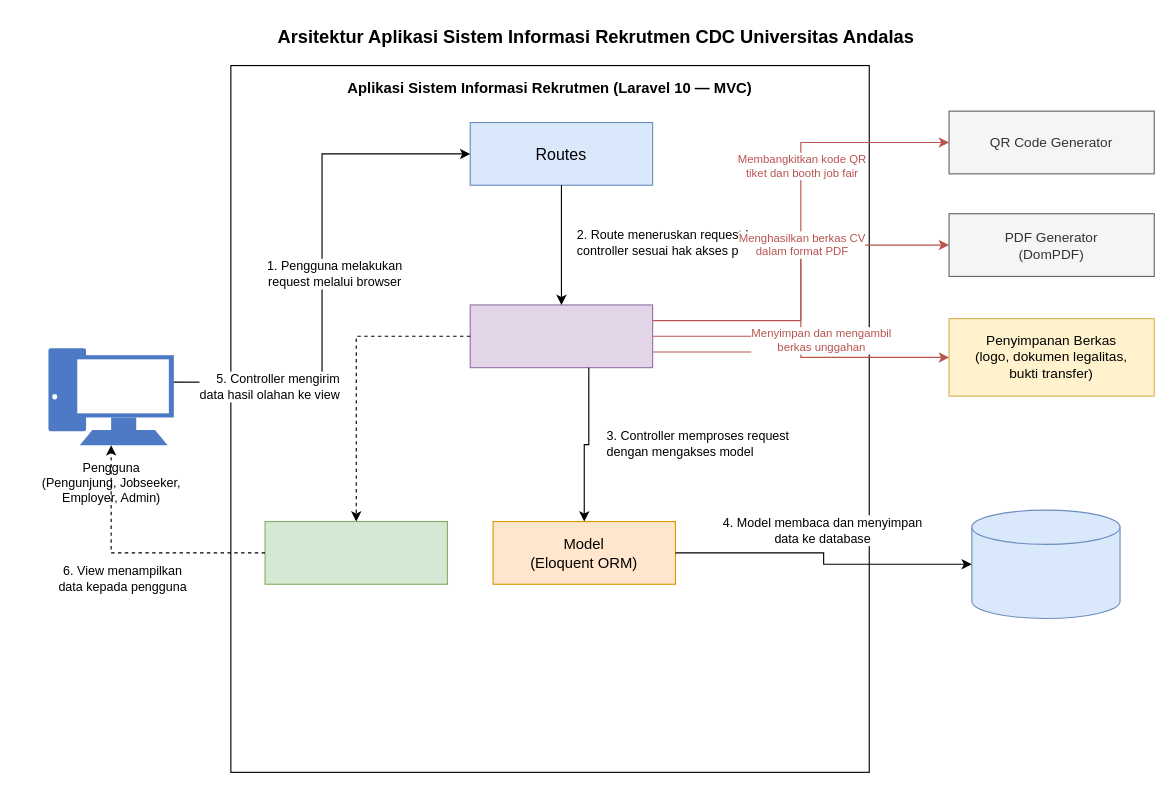
This 1174x792 diagram has some shape labels left out. The centre of each missing label's shape, as x and y in pixels:
Controllers: (x=561, y=336)
Database MySQL: (x=1045, y=563)
View (Blade + Bootstrap): (x=355, y=552)
